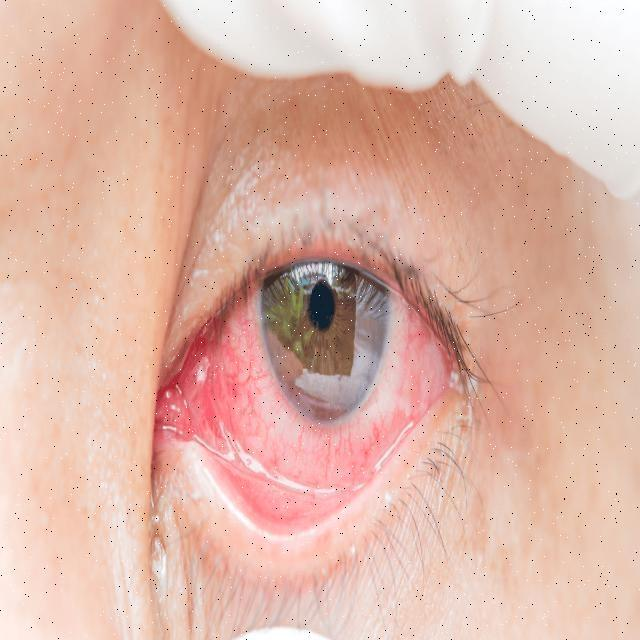Conjunctivitis: (154, 276, 463, 486)
